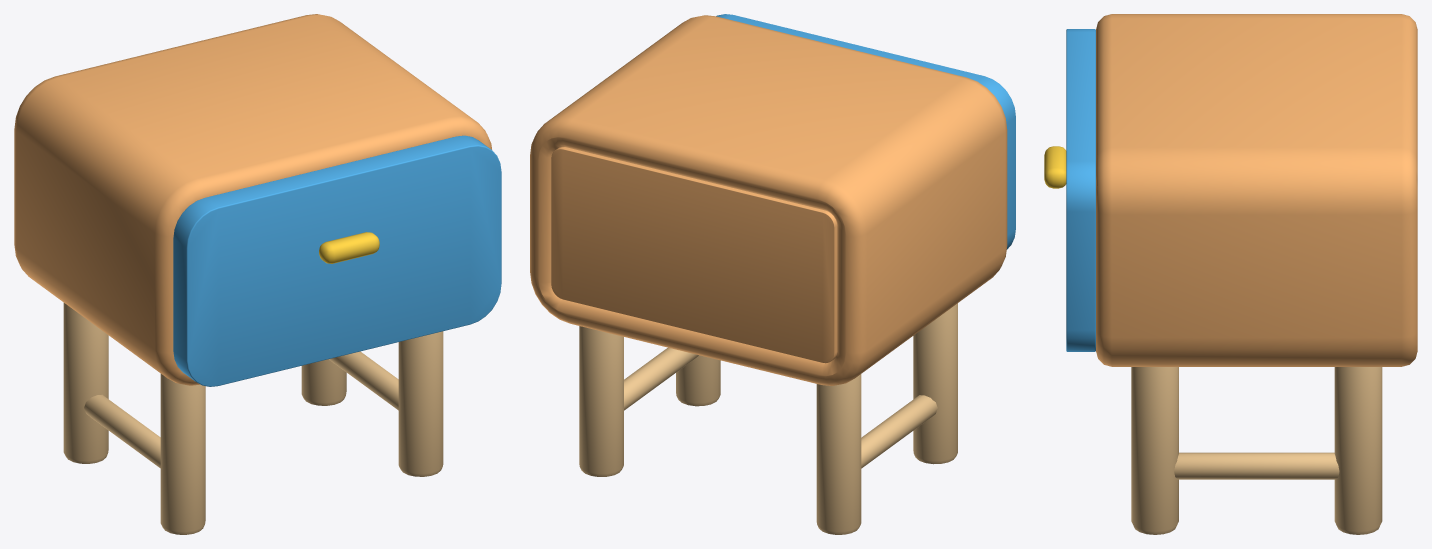
File: criado_gavetao_laranja.glb
The picture shows the model from 3 angles, left to right: view 1: azimuth 30°, elevation 25°; view 2: azimuth 150°, elevation 25°; view 3: azimuth 270°, elevation 25°; orthographic projection. The views are drawn at different scales.
Parts seen in each view (by area): view 1: criado_gavetao_laranja, gaveta_1; view 2: criado_gavetao_laranja, gaveta_1; view 3: criado_gavetao_laranja, gaveta_1.
Boxes of the visible parts, <box> form: criado_gavetao_laranja: <box>14,14,491,534</box>; gaveta_1: <box>173,135,501,386</box>; criado_gavetao_laranja: <box>530,15,1007,534</box>; gaveta_1: <box>716,14,1015,249</box>; criado_gavetao_laranja: <box>1096,14,1417,534</box>; gaveta_1: <box>1044,29,1095,351</box>.
Size of the model in its own units: 0.48 by 0.5 by 0.441.
Materials: 1 (1 with a texture image).
